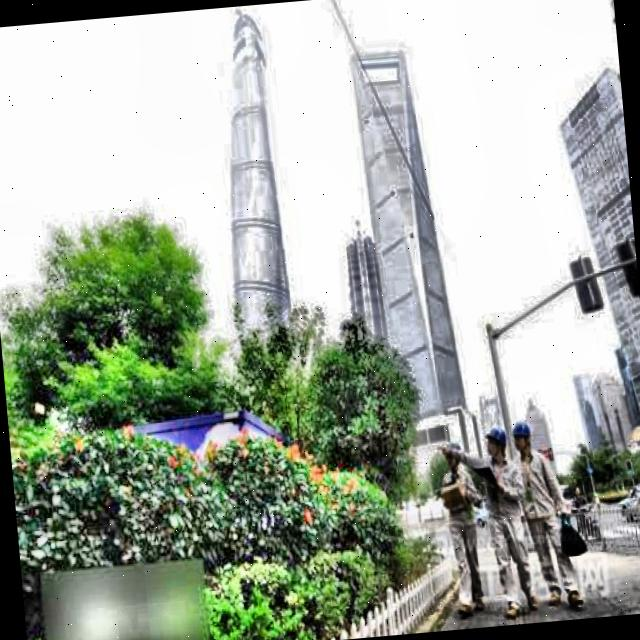helmet: (511, 418, 536, 462), (483, 424, 508, 462)
